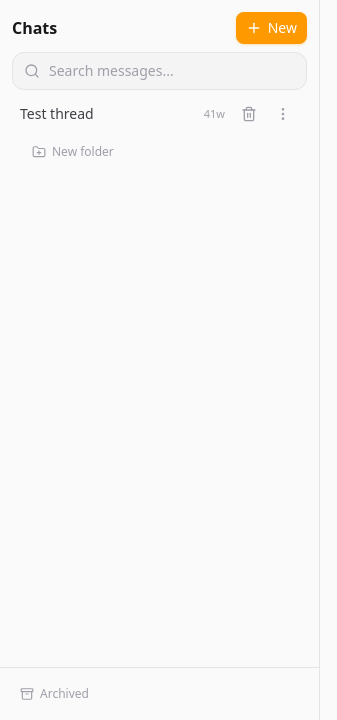
ThreadSidebar global search › renders all four section headers when results contain every category
Type "hello" into the field with placeholder "Search messages..." at point(160, 71), box [12,52,307,90]
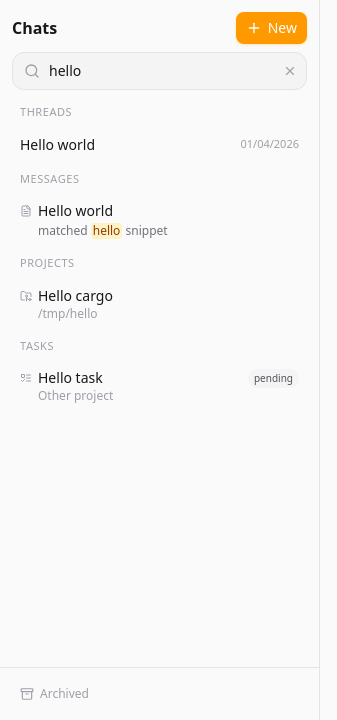
Expected: the text "Threads" is shown, [20,104,72,119]
Expected: the text "Messages" is shown, [20,170,80,186]
Expected: the text "Projects" is shown, [20,255,75,270]
